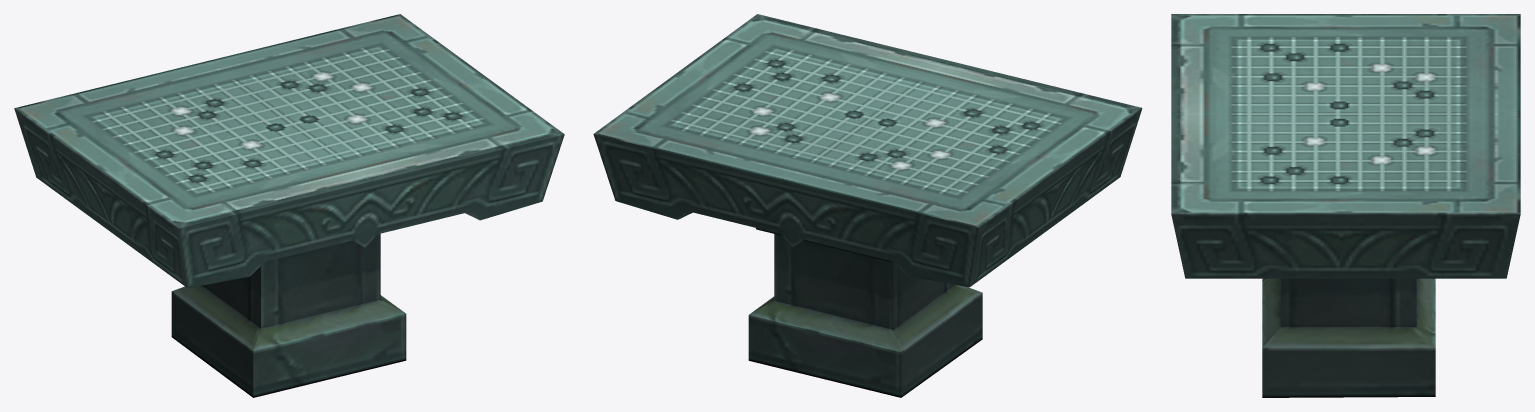
The model's file is fb_tys_zj_11.FBX.
3 renders of one model, left to right at view 1: azimuth 30°, elevation 25°; view 2: azimuth 150°, elevation 25°; view 3: azimuth 270°, elevation 25°, orthographic. The views are drawn at different scales.
Visible parts, largest first — view 1: fb_tys_zj_08; view 2: fb_tys_zj_08; view 3: fb_tys_zj_08.
Boxes of the visible parts, bbox=[...] form: fb_tys_zj_08: bbox=[14, 14, 564, 397]; fb_tys_zj_08: bbox=[593, 14, 1142, 397]; fb_tys_zj_08: bbox=[1171, 14, 1520, 397].
Bounding box in the file's own units: 292 × 166 × 215.
